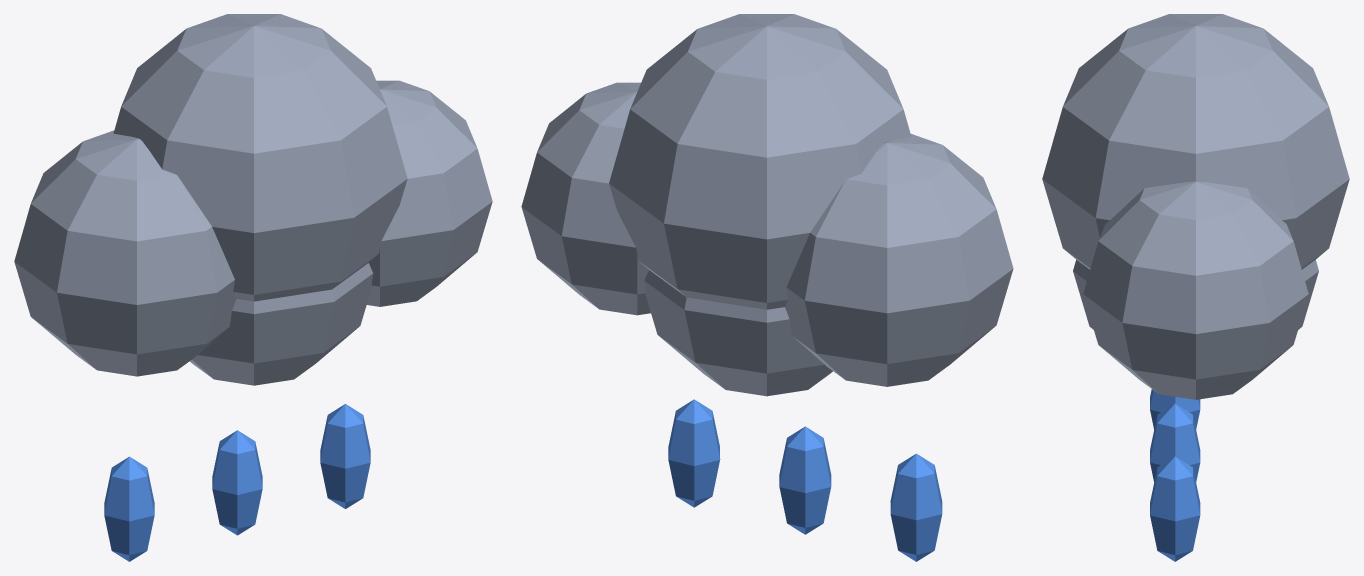
File: rain_icon.obj
The picture shows the model from 3 angles, left to right: view 1: azimuth 30°, elevation 25°; view 2: azimuth 150°, elevation 25°; view 3: azimuth 270°, elevation 25°; orthographic projection. The views are drawn at different scales.
Parts seen in each view (by area): view 1: item; view 2: item; view 3: item.
Boxes of the visible parts, x1,y1,x2,y2 form: item: (14,14,492,561); item: (521,14,1013,561); item: (1042,14,1349,561).
Size of the model in its own units: 0.4928 by 0.526 by 0.2954.
